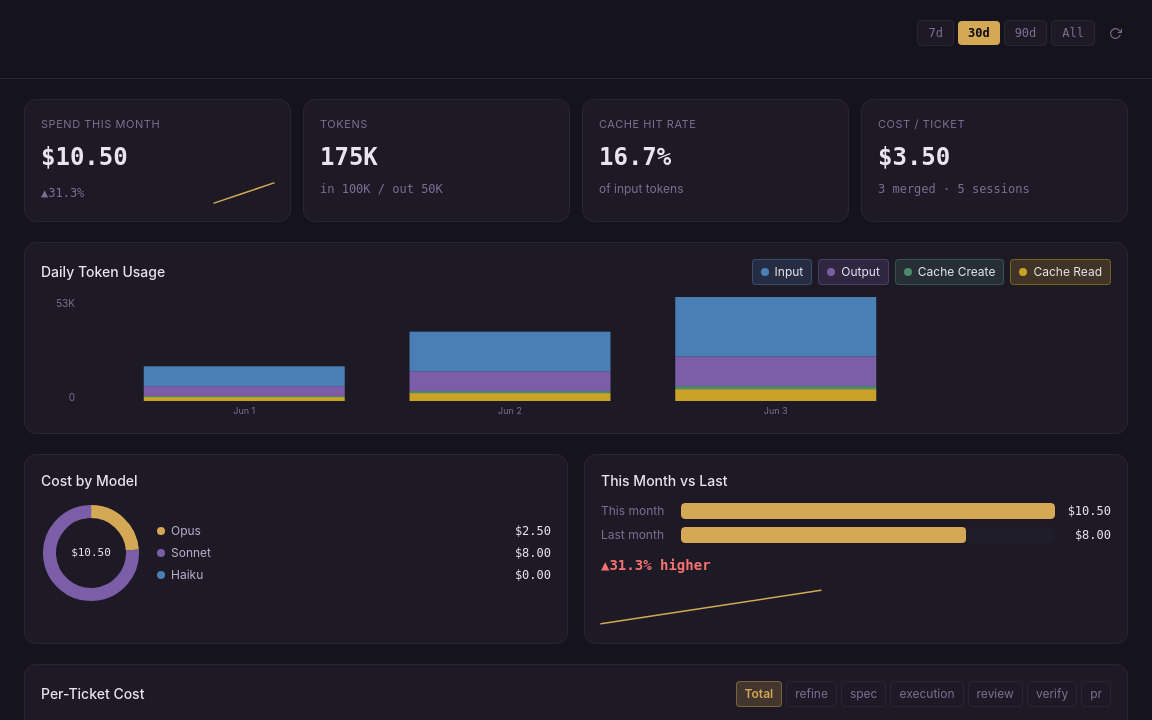
it: TelemetryView › Daily token chart toggles › turning all classes off shows no-class hint
Click the button with test id "toggle-input" at point(782, 272), box left=752, top=258, right=812, bottom=284
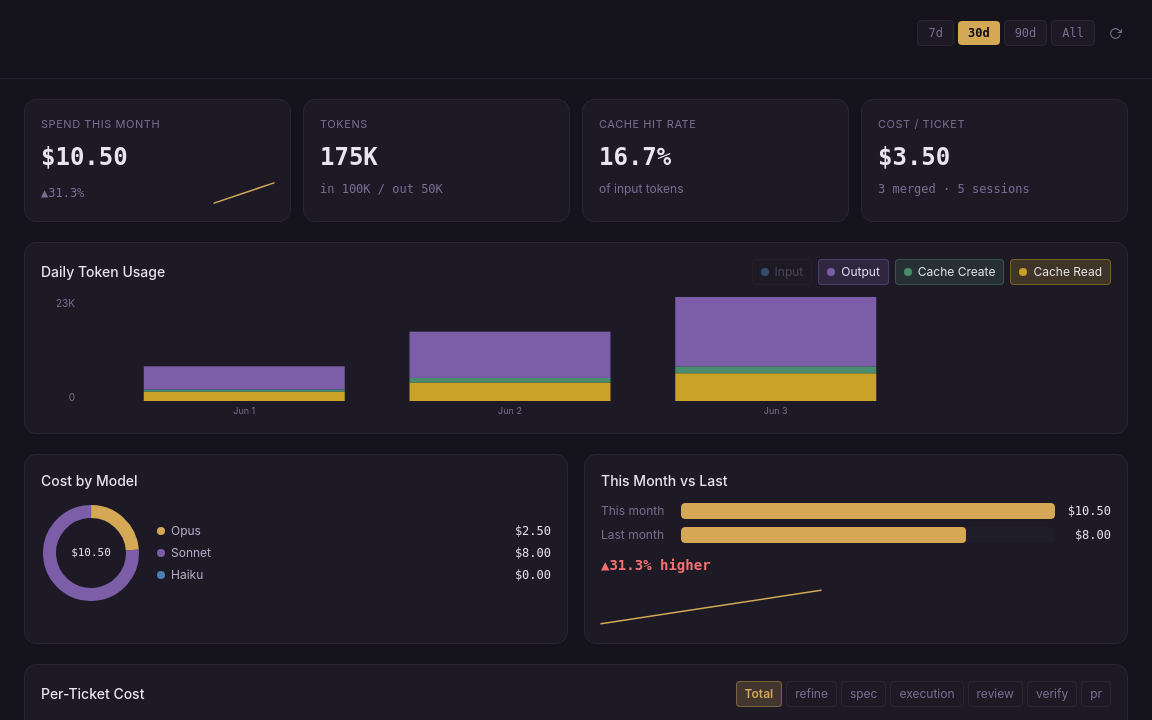
Click the button with test id "toggle-output" at point(854, 272), box left=818, top=258, right=889, bottom=284
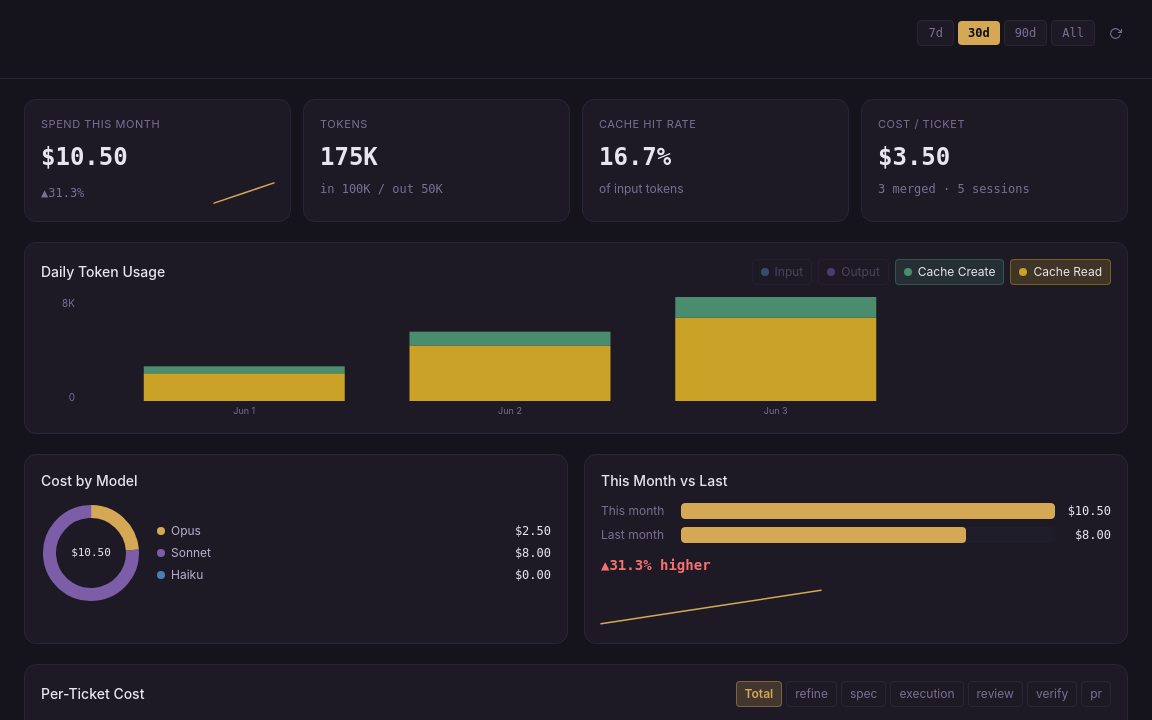
Click the button with test id "toggle-cacheCreate" at point(950, 272), box left=895, top=258, right=1004, bottom=284
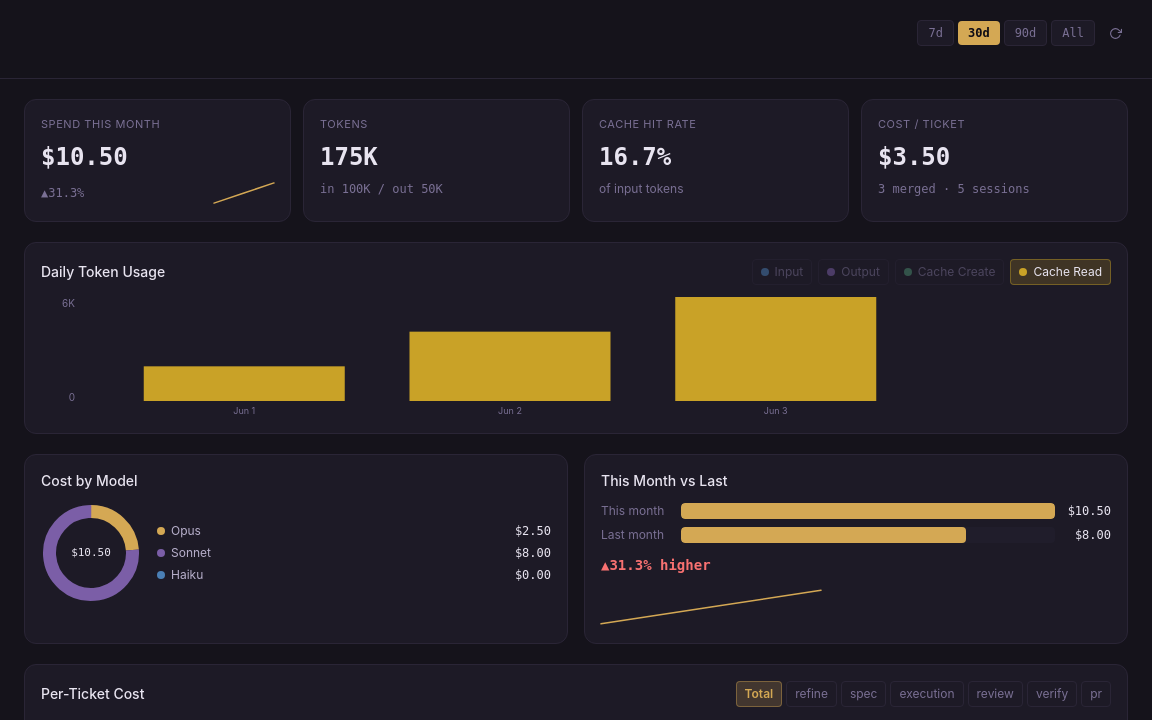
Click the button with test id "toggle-cacheRead" at point(1061, 272), box left=1010, top=258, right=1111, bottom=284
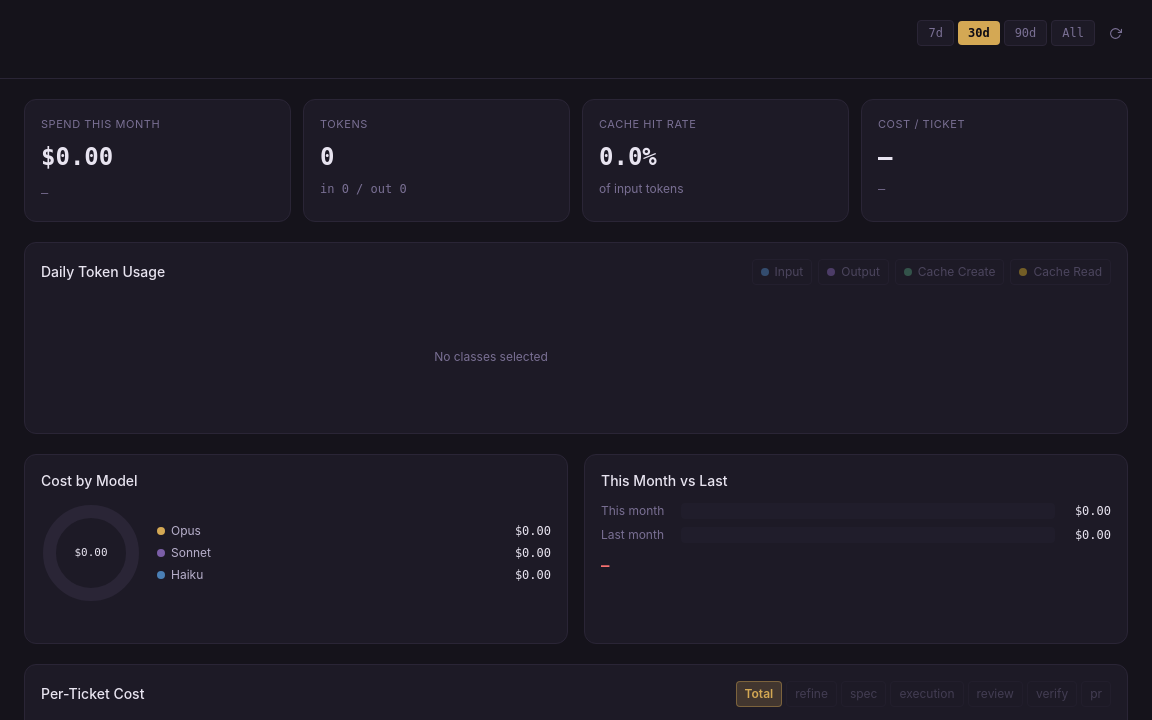
Check: the text with test id "stacked-bars" reads "No classes selected", box left=434, top=348, right=548, bottom=364
